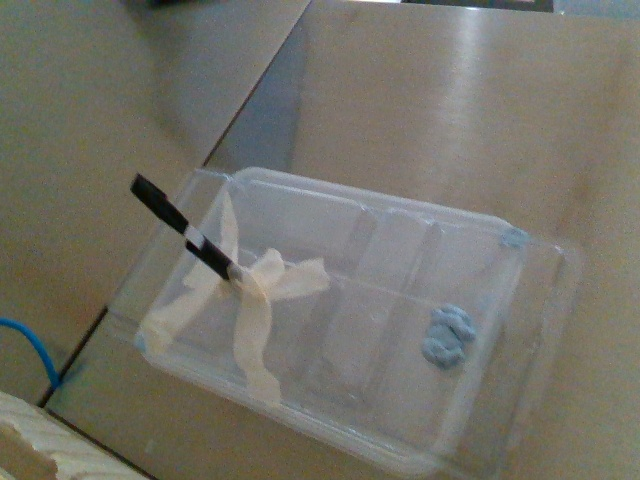test_strip: (128, 172, 205, 252)
